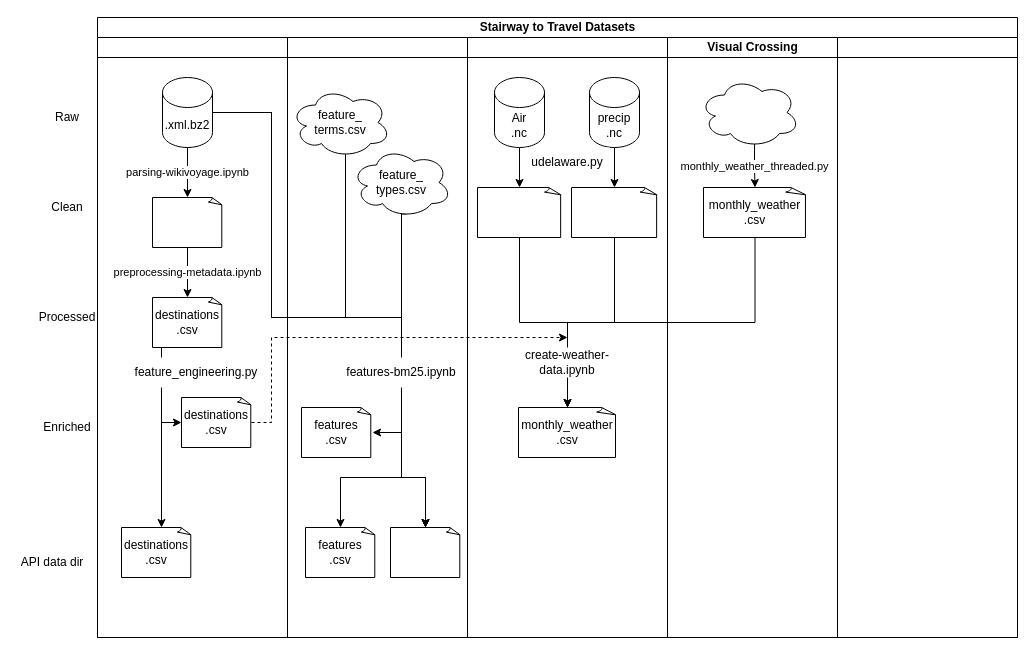
Some shapes in this 1035 by 655 pixel diagram are drawn without their labels. The shapes that lost their labels are listed below. From the top down, each one's box as (x1, y1, x2, y2) in pixels, then its label:
(698, 76, 800, 148): API
(152, 196, 222, 248): metadata_all .csv
(476, 186, 562, 238): monthly_temp .csv
(570, 186, 658, 238): monthly_rain .csv
(96, 36, 288, 638): Wikivoyage
(286, 36, 468, 638): Activity features
(466, 36, 668, 638): University of Delaware
(836, 36, 1018, 638): Wikivoyage API
(390, 526, 460, 578): features_ types.csv
